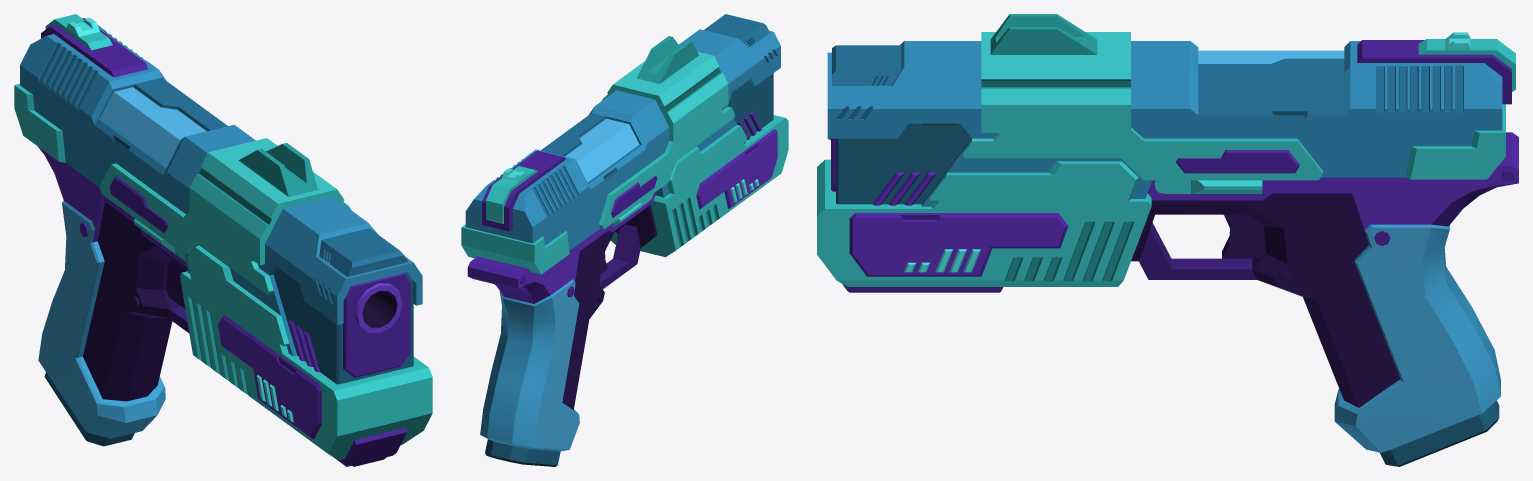
Rendered from Weapon_PISTOL_02_G04.fbx.
3 views of the same model, side by side, from view 1: azimuth 30°, elevation 25°; view 2: azimuth 150°, elevation 25°; view 3: azimuth 270°, elevation 25° (orthographic). The views are drawn at different scales.
Visible parts, largest first — view 1: Weapon_PISTOL_02_G04; view 2: Weapon_PISTOL_02_G04; view 3: Weapon_PISTOL_02_G04.
Boxes of the visible parts, <box> form: Weapon_PISTOL_02_G04: <box>14,14,432,466</box>; Weapon_PISTOL_02_G04: <box>461,14,788,466</box>; Weapon_PISTOL_02_G04: <box>817,14,1518,466</box>.
Bounding box in the file's own units: 1.21 × 4.54 × 6.61.
